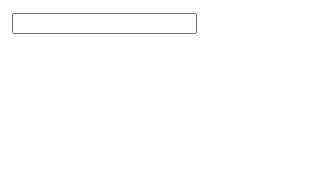
Scenario: MoneyInput › allows a decimal point and keeps it while formatting
In the field named "amount": {"x": 104, "y": 24} top-left (12, 13), bottom-right (197, 34), type "1500.5"
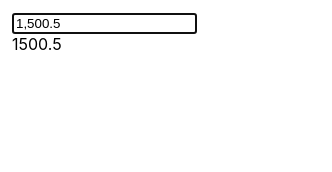
Check: the text with test id "raw" reads "1500.5", box top-left (12, 34), bottom-right (62, 54)
Check: the field named "amount" holds "1,500.5", box top-left (12, 13), bottom-right (197, 34)
